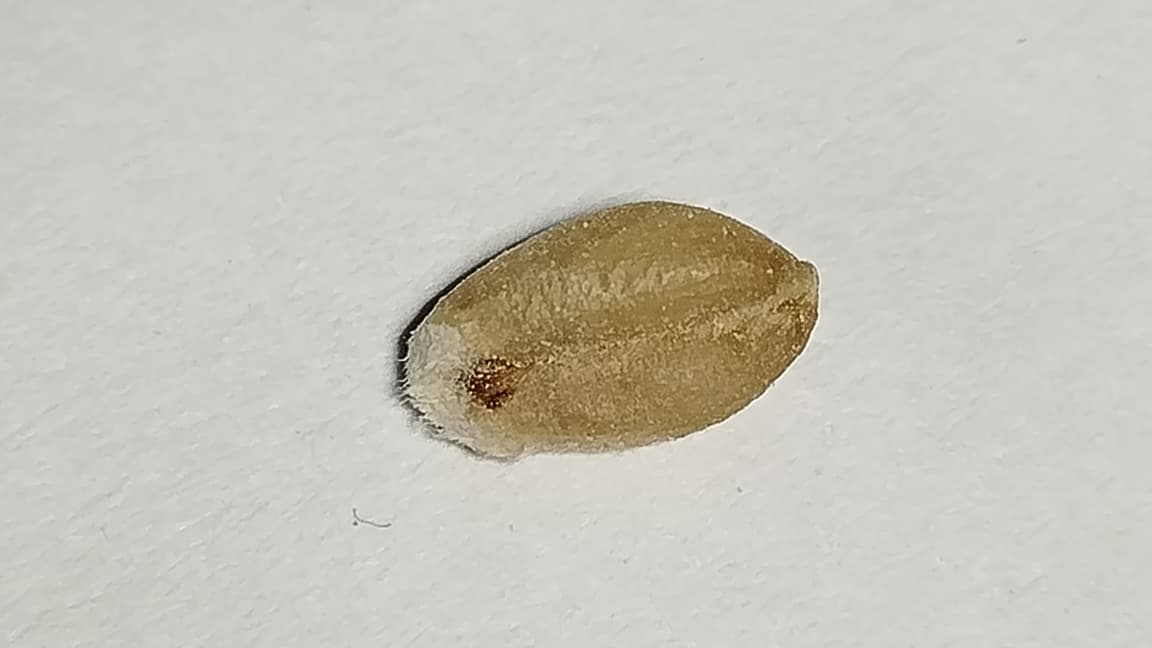damage: (400, 203, 818, 460)
staindamage: (446, 344, 551, 414)
